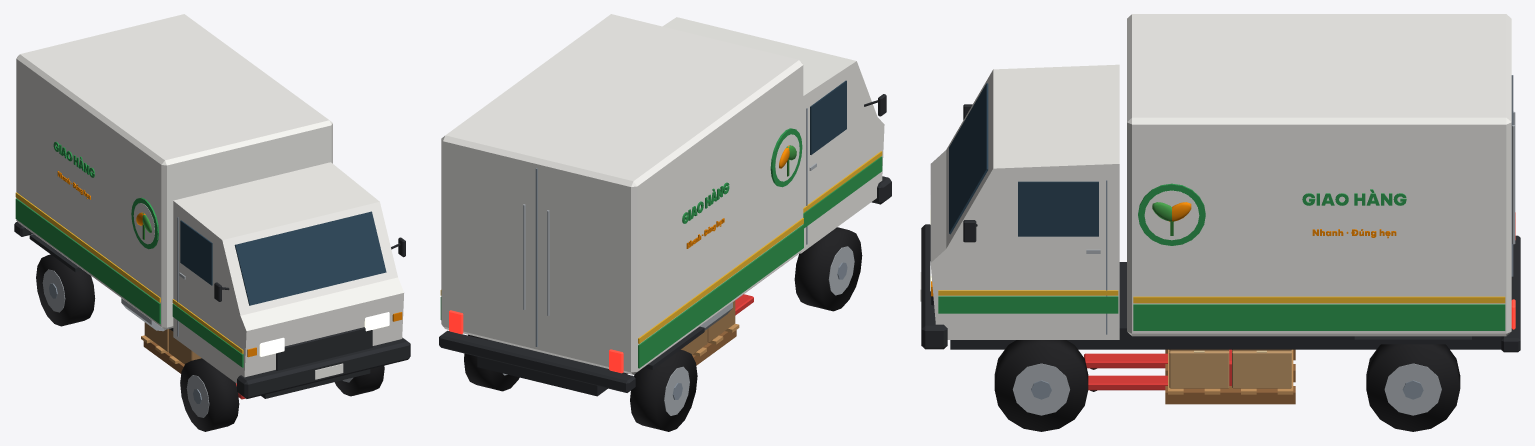
The model's file is props.glb.
3 views of the same model, side by side, from view 1: azimuth 30°, elevation 25°; view 2: azimuth 150°, elevation 25°; view 3: azimuth 270°, elevation 25° (orthographic). The views are drawn at different scales.
Parts seen in each view (by area): view 1: PP_Truck, PP_Truck_Wheel_FR, PP_Truck_Wheel_RR, PP_PalletLoad, PP_Truck_Wheel_FL; view 2: PP_Truck, PP_Truck_Wheel_FR, PP_Truck_Wheel_RR, PP_PalletLoad, PP_Truck_Wheel_RL; view 3: PP_Truck, PP_Truck_Wheel_FL, PP_PalletLoad, PP_Truck_Wheel_RL, PP_PalletJack.
Part boxes in pixels (x1,y1,x2,y2): PP_Truck: (14,14,410,398); PP_Truck_Wheel_FR: (180,358,239,431); PP_Truck_Wheel_RR: (36,254,95,326); PP_PalletLoad: (141,322,201,373); PP_Truck_Wheel_FL: (334,365,384,396); PP_Truck: (439,14,891,396); PP_Truck_Wheel_FR: (794,227,862,311); PP_Truck_Wheel_RR: (630,349,697,431); PP_PalletLoad: (681,301,739,365); PP_Truck_Wheel_RL: (464,334,519,391); PP_Truck: (920,14,1520,352); PP_Truck_Wheel_FL: (994,340,1088,431); PP_PalletLoad: (1165,349,1295,404); PP_Truck_Wheel_RL: (1366,344,1460,431); PP_PalletJack: (1084,349,1231,391).
Size of the model in its own units: 2.14 by 2.65 by 4.61.
1 material, 1 textured.
